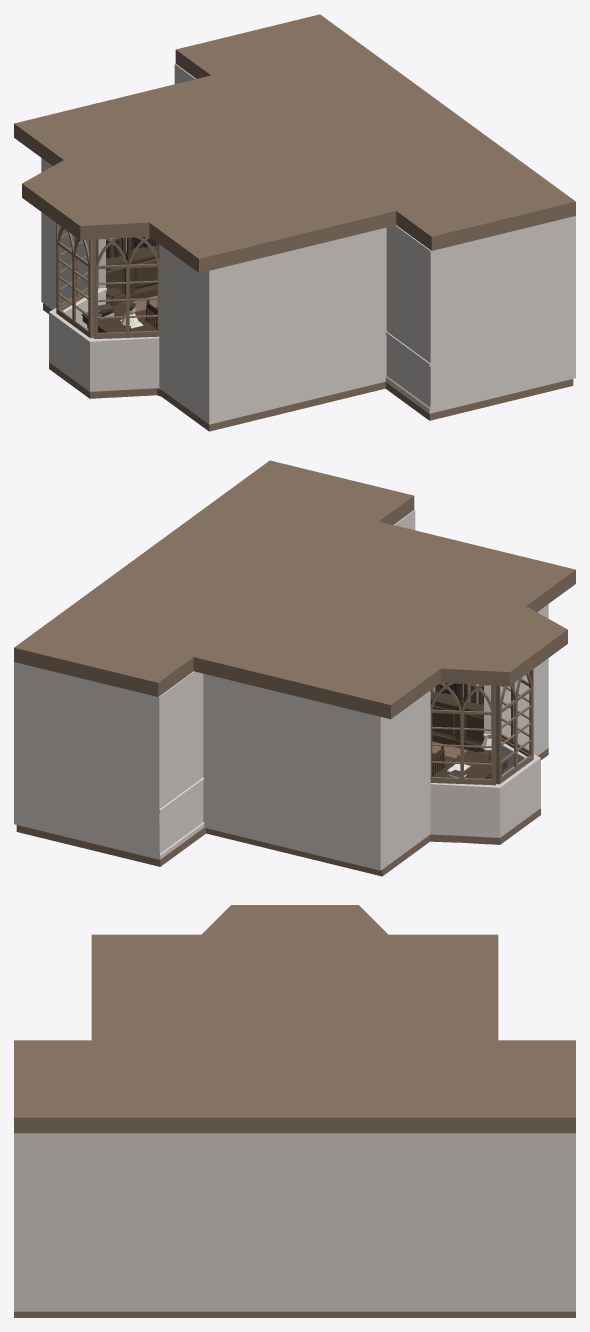
File: Library_FBX_noGlass.fbx
3 renders of one model, top to bottom at view 1: azimuth 30°, elevation 25°; view 2: azimuth 150°, elevation 25°; view 3: azimuth 270°, elevation 25°, orthographic. The views are drawn at different scales.
Parts seen in each view (by area): view 1: ceiling, ceiling.001, L.Side.005, L.Side.003, back, back.002, Cube.008, window.Frame.001, Cube.005, Cylinder.003, back.003, Cube.004 (+3 smaller); view 2: ceiling, ceiling.001, L.Side.001, L.Side.003, back, back.002, Cube.008, Cylinder.001, Cube.001, Cylinder.003, back.003, Cube.004 (+3 smaller); view 3: back.003, ceiling.001, ceiling, Cube.004, L.Side.003.
Part boxes in pixels (x1,y1,x2,y2): ceiling: (14, 75, 396, 273); ceiling.001: (175, 14, 575, 250); L.Side.005: (202, 227, 386, 424); L.Side.003: (175, 63, 567, 413); back: (42, 159, 209, 418); back.002: (174, 64, 441, 413); Cube.008: (43, 295, 385, 431); window.Frame.001: (93, 236, 159, 338); Cube.005: (106, 237, 159, 305); Cylinder.003: (56, 223, 93, 338); back.003: (563, 216, 575, 380); Cube.004: (385, 379, 573, 420); ceiling: (193, 521, 575, 719); ceiling.001: (14, 460, 414, 696); L.Side.001: (203, 673, 387, 870); L.Side.003: (24, 664, 165, 859); back: (380, 604, 548, 864); back.002: (148, 510, 415, 859); Cube.008: (206, 741, 548, 876); Cylinder.001: (430, 683, 496, 785); Cube.001: (430, 683, 483, 752); Cylinder.003: (496, 669, 533, 784); back.003: (14, 662, 25, 826); Cube.004: (16, 825, 205, 866); back.003: (14, 1133, 575, 1311); ceiling.001: (14, 1040, 575, 1133); ceiling: (91, 905, 498, 1040); Cube.004: (14, 1311, 575, 1317); L.Side.003: (560, 1133, 575, 1311).
Bounding box in the file's own units: 896 × 396 × 1000.
